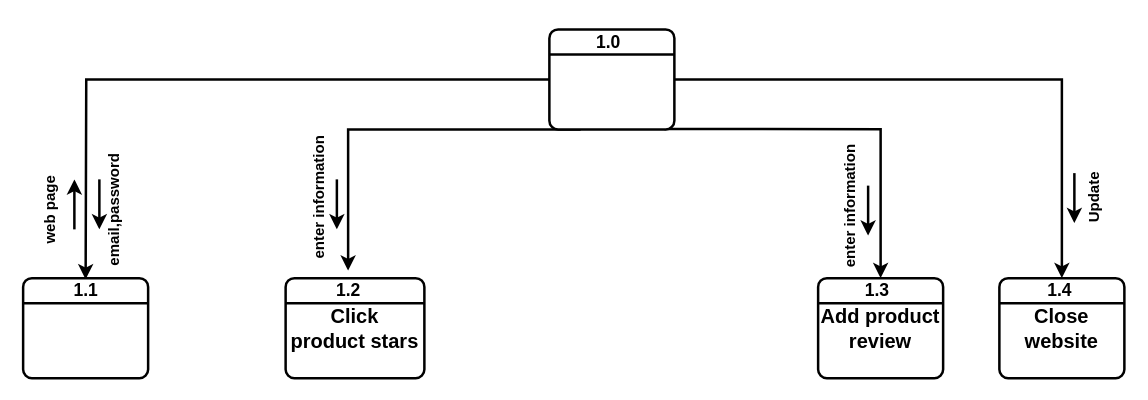
Some shapes in this 1148 by 400 pixel diagram are drawn without their labels. The shapes that lost their labels are listed below. From the top down, each one's box as (x1, y1, x2, y2) in pixels, then its label:
(548, 28, 675, 130): Enter rating
(21, 276, 149, 379): Login
